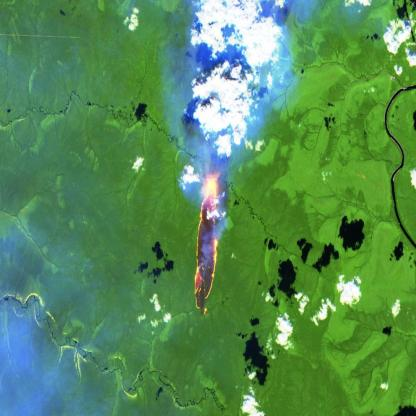fire: (192, 169, 224, 319)
